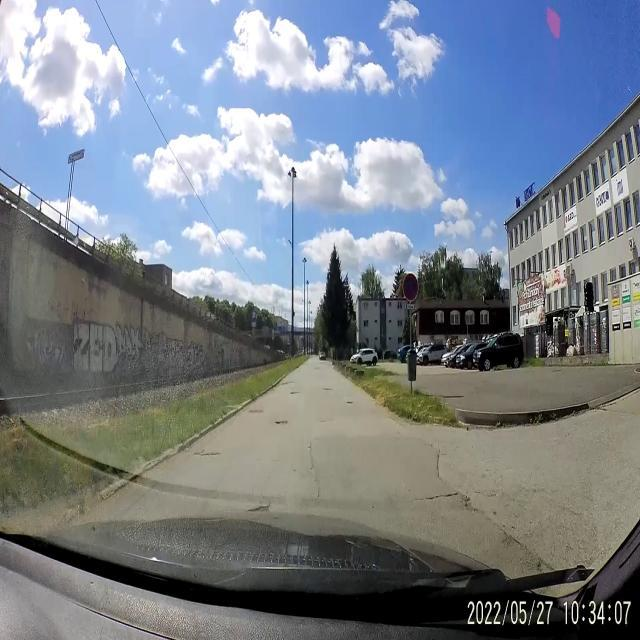Pothole: (416, 482, 474, 511), (245, 494, 272, 514), (190, 444, 223, 459), (272, 416, 294, 430), (248, 406, 266, 418), (321, 382, 336, 392), (345, 396, 355, 409), (288, 391, 302, 398)
